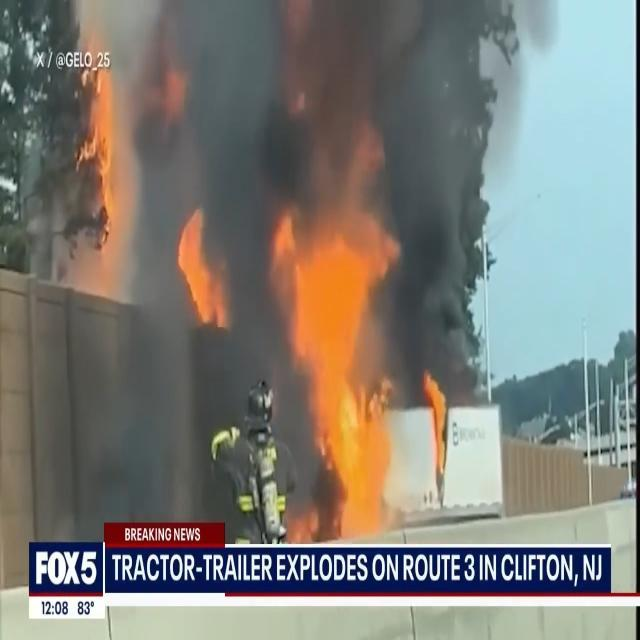fire: (281, 214, 403, 548), (81, 59, 124, 240), (177, 216, 230, 327)
